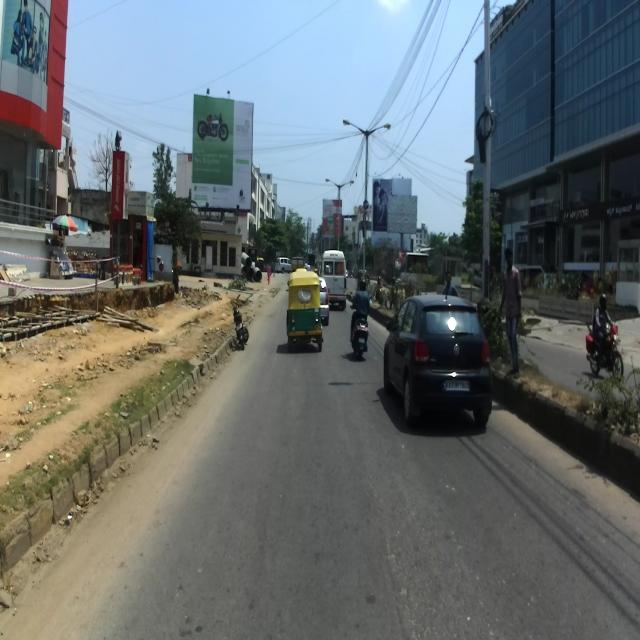Car_TATA: (314, 276, 329, 325)
Car_Volkswagen: (383, 291, 492, 427)
autorickshaw: (286, 271, 324, 352)
mini-bus: (320, 249, 346, 311)
motorcycle_TVS: (232, 302, 249, 349)
motorcycle_bajaj: (586, 314, 624, 380)
scooter: (349, 294, 372, 359)
